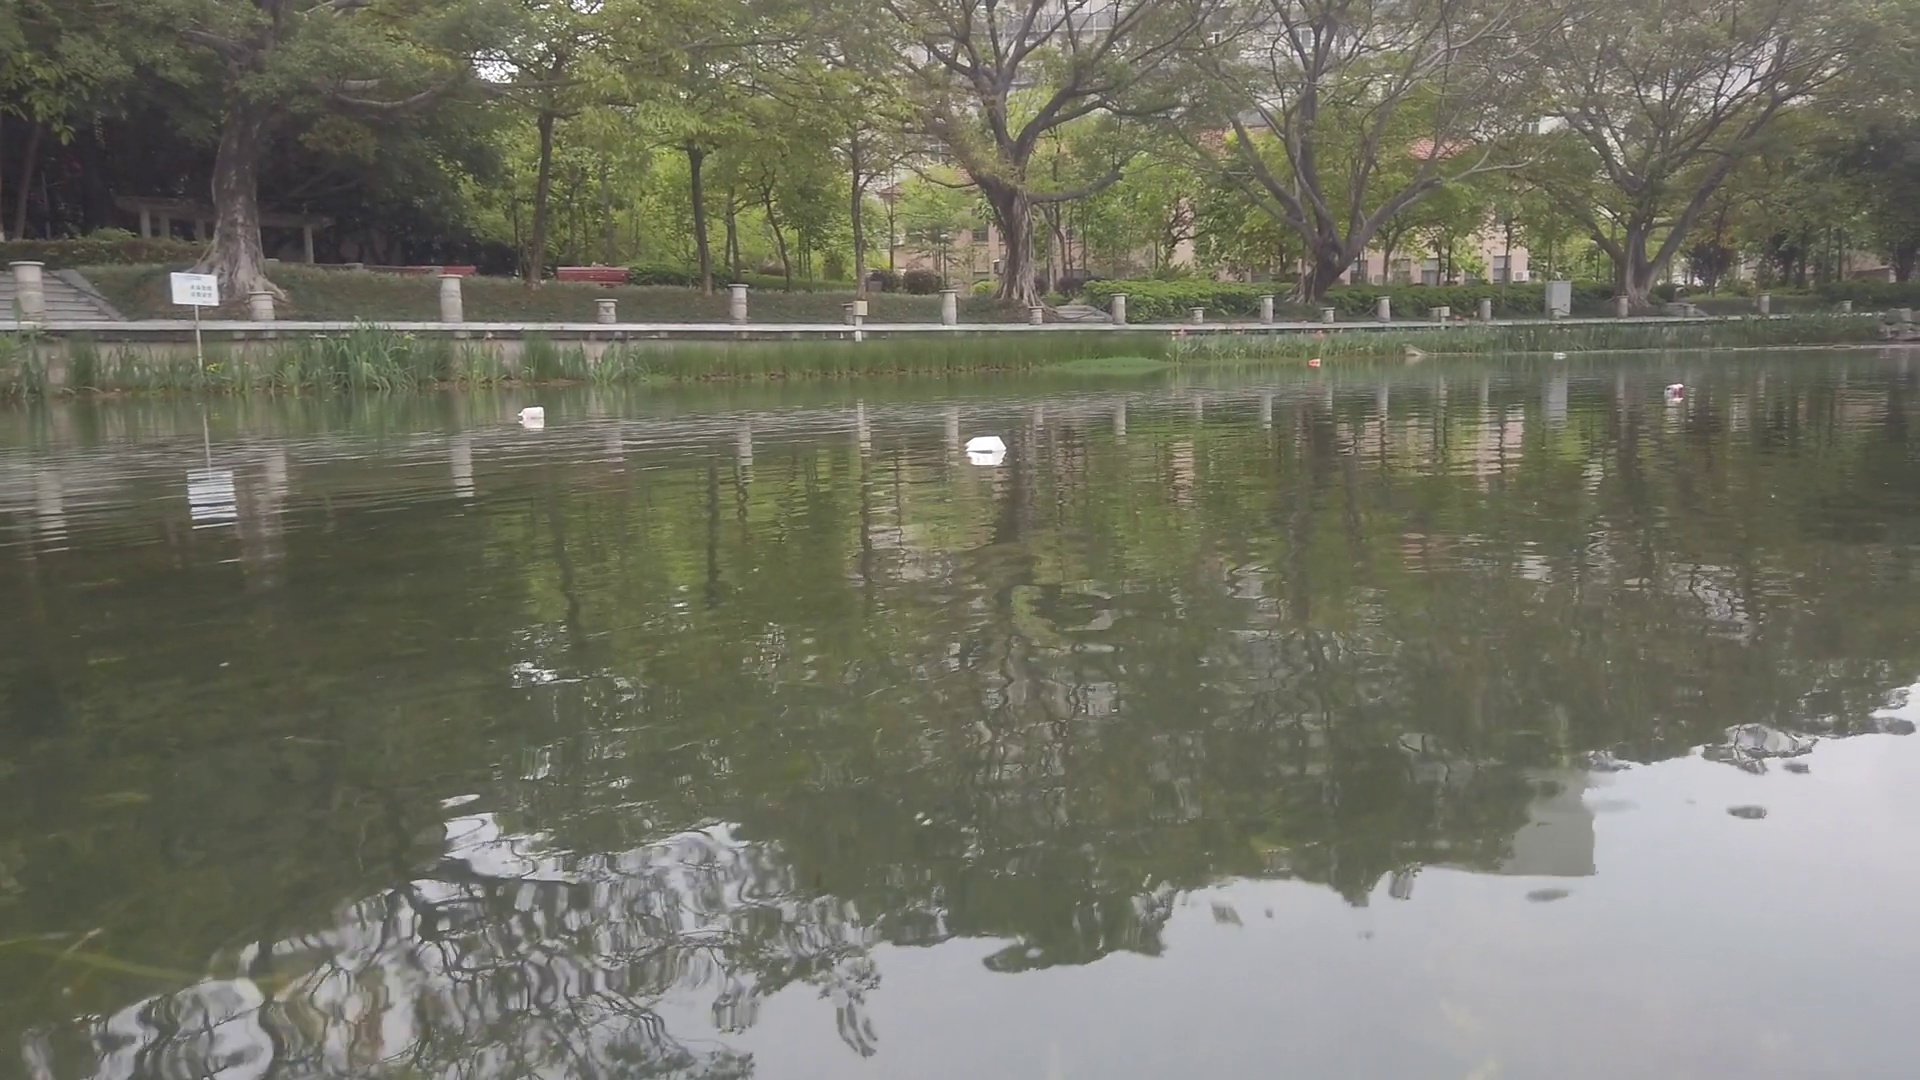bottle: (1665, 386, 1689, 396), (1308, 359, 1321, 367), (1552, 353, 1567, 357)
carton: (965, 435, 1010, 452), (518, 407, 546, 419)
